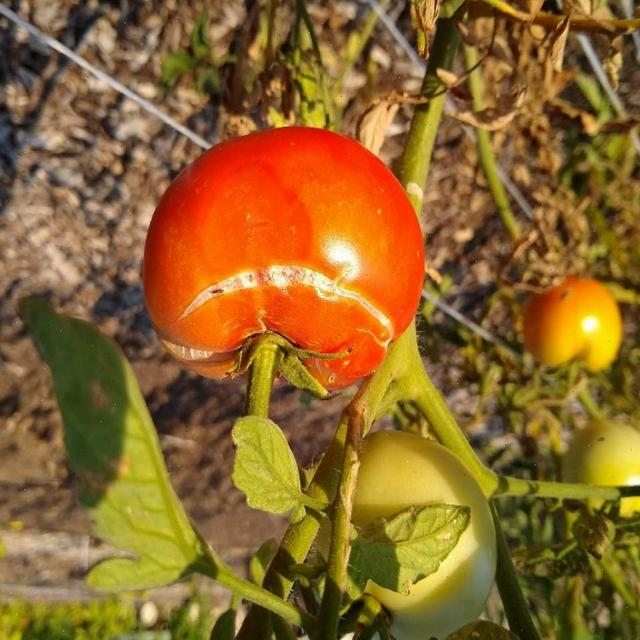Cracking Fruit: (113, 170, 276, 234)
